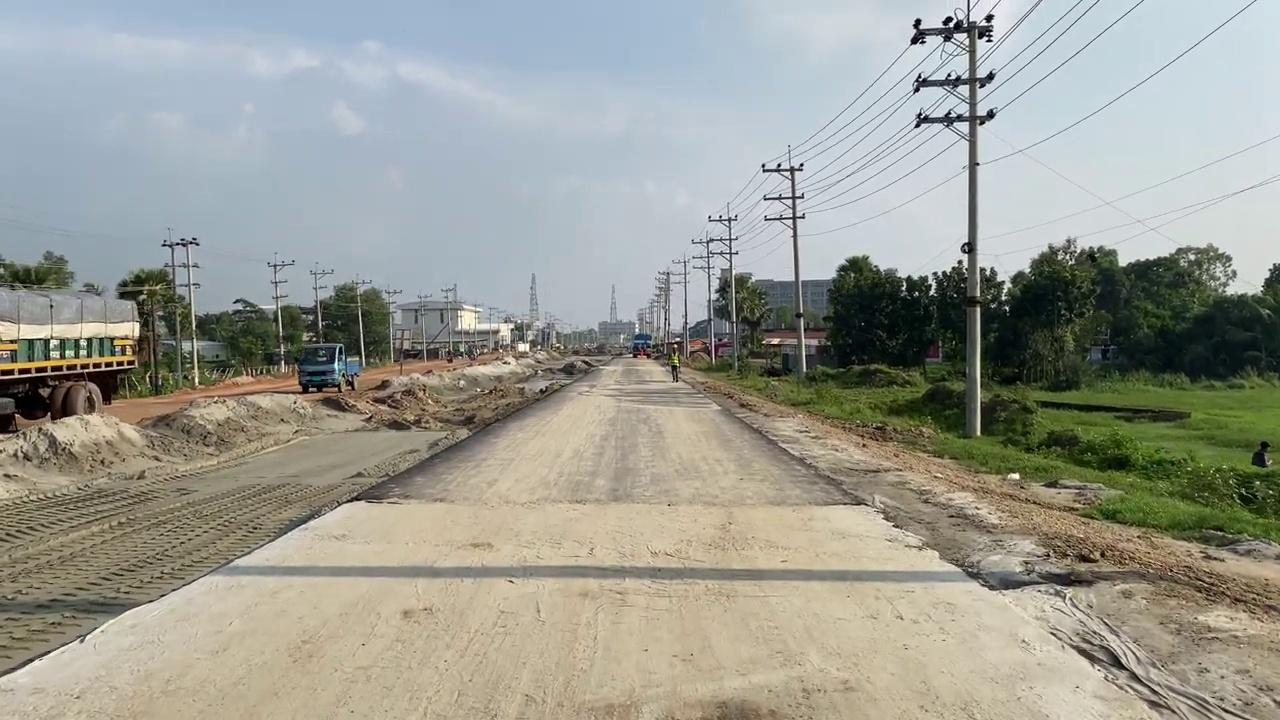Muddy road: (1, 349, 1275, 717)
Pole: (761, 148, 807, 380), (963, 11, 982, 438)
Traffic-sign: (114, 266, 177, 394)
Tree: (0, 285, 141, 432), (296, 342, 359, 393), (630, 332, 652, 358)
